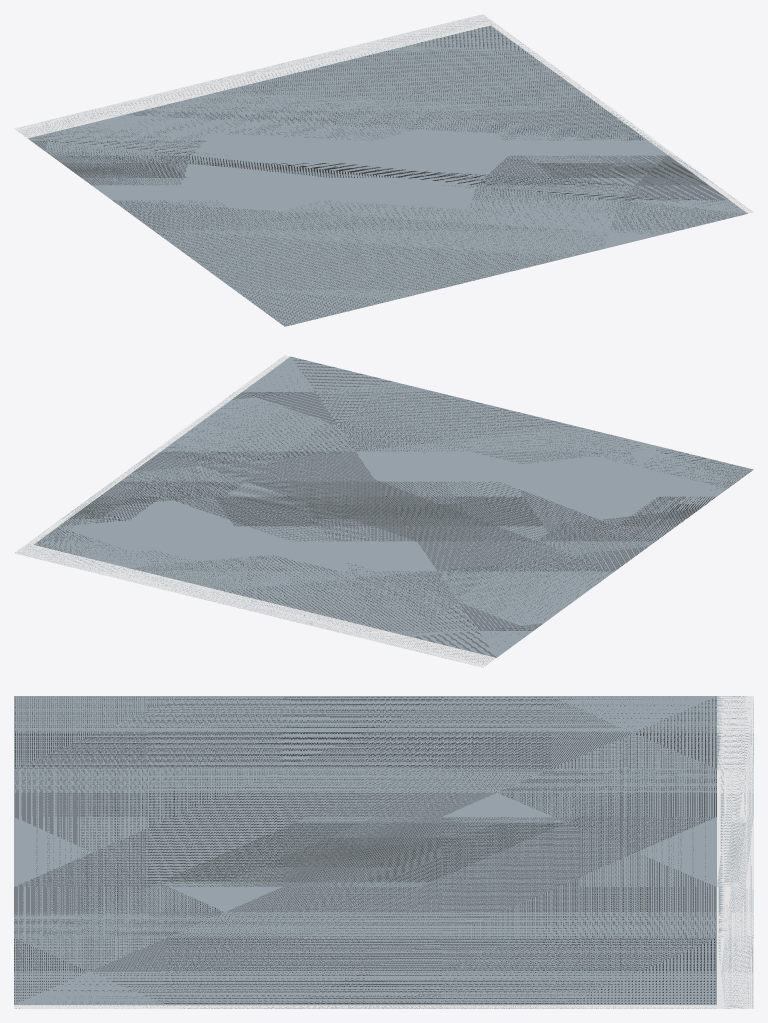
File: single_lane_end.fbx
3 views of the same model, one above another, from view 1: azimuth 30°, elevation 25°; view 2: azimuth 150°, elevation 25°; view 3: azimuth 270°, elevation 25° (orthographic). The views are drawn at different scales.
Parts seen in each view (by area): view 1: Model; view 2: Model; view 3: Model.
Part boxes in pixels (box(x1,y1,x2,y2)): Model: box(14, 14, 753, 326); Model: box(14, 355, 753, 667); Model: box(14, 696, 753, 1008).
Bounding box in the file's own units: 4 × 0 × 4.
